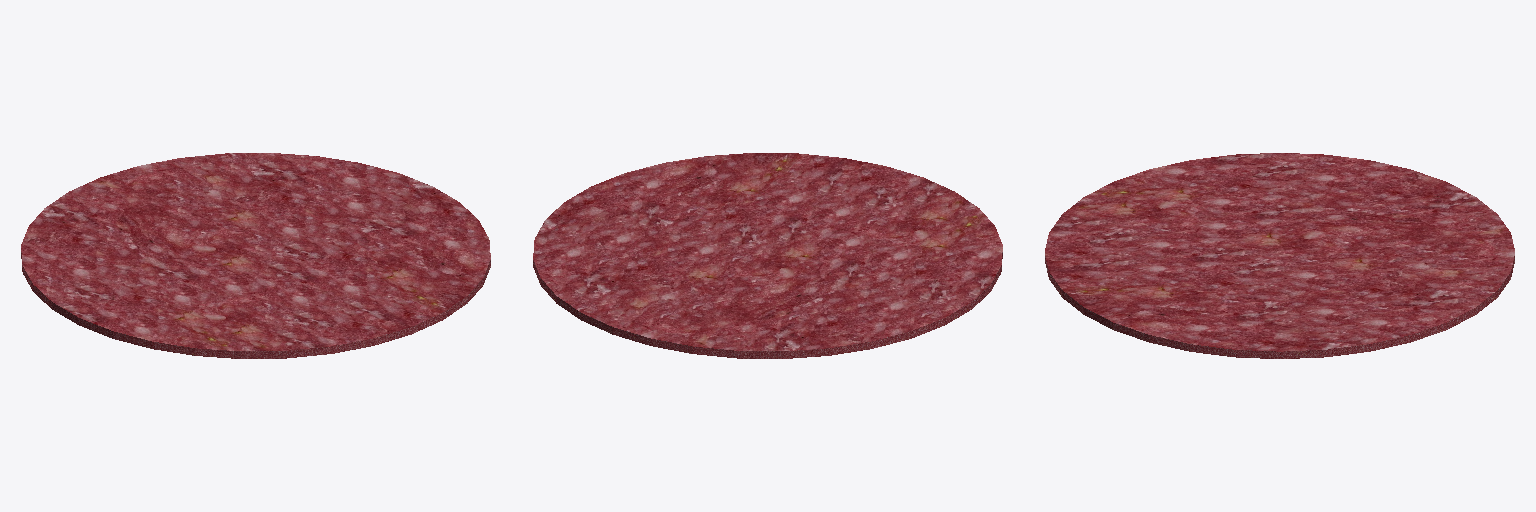
The picture shows the model from 3 angles: view 1: azimuth 30°, elevation 25°; view 2: azimuth 150°, elevation 25°; view 3: azimuth 270°, elevation 25°; orthographic projection.
Parts seen in each view (by area): view 1: Circle; view 2: Circle; view 3: Circle.
Part boxes in pixels (bbox=[...]): Circle: bbox=[21, 153, 490, 358]; Circle: bbox=[533, 153, 1002, 358]; Circle: bbox=[1045, 153, 1514, 358].
Bounding box in the file's own units: 2 × 0.0359 × 2.
Materials: 1 (1 with a texture image).